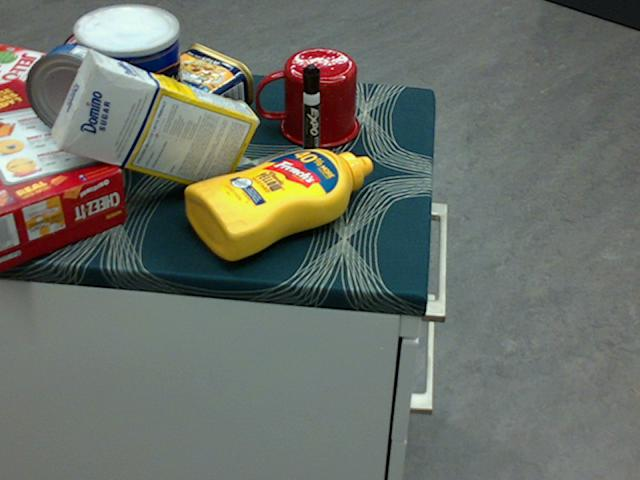cracker_box: (0, 80, 127, 269)
gelatin_box: (0, 45, 58, 108)
large_marker: (300, 64, 321, 170)
master_chef_can: (75, 5, 184, 170)
mug: (255, 48, 357, 148)
mustard_bottle: (184, 148, 372, 260)
potted_meat_can: (141, 43, 253, 132)
sugar_box: (52, 52, 259, 192)
tomato_soup_can: (49, 28, 122, 124)
tuna_fish_can: (25, 43, 121, 137)
